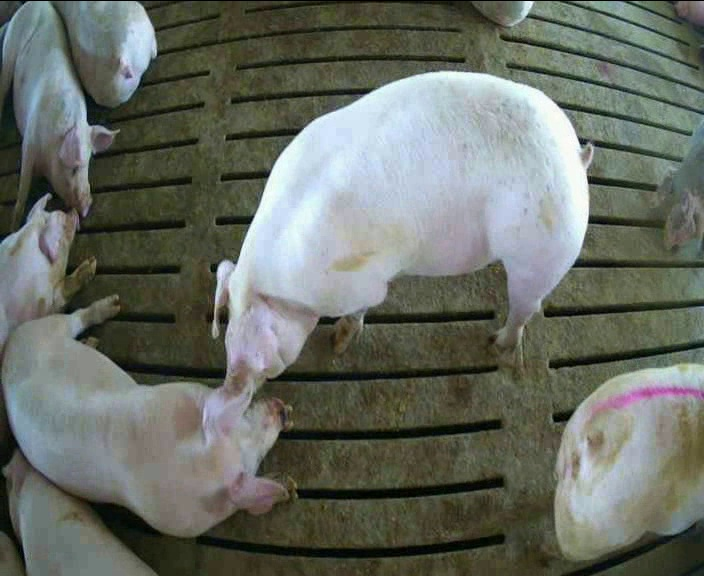pig: (213, 73, 591, 393), (2, 297, 294, 536), (542, 364, 703, 559), (0, 2, 119, 226), (4, 449, 155, 574), (0, 194, 94, 354), (53, 2, 156, 106)
